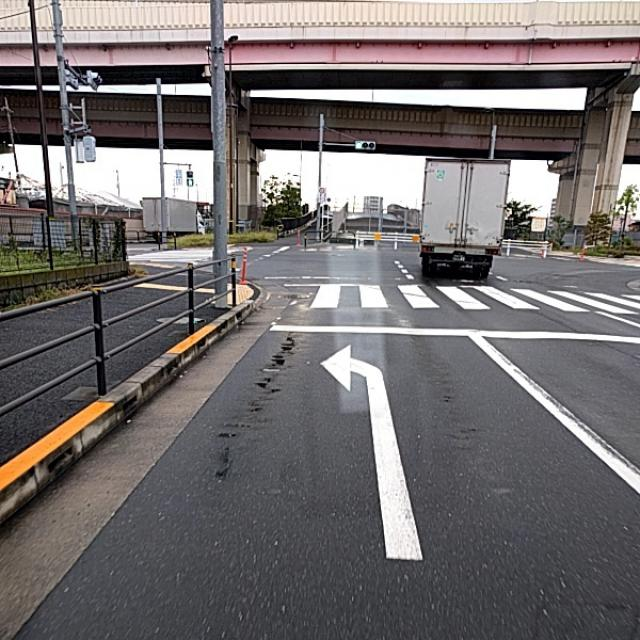pothole: (209, 367, 260, 479)
